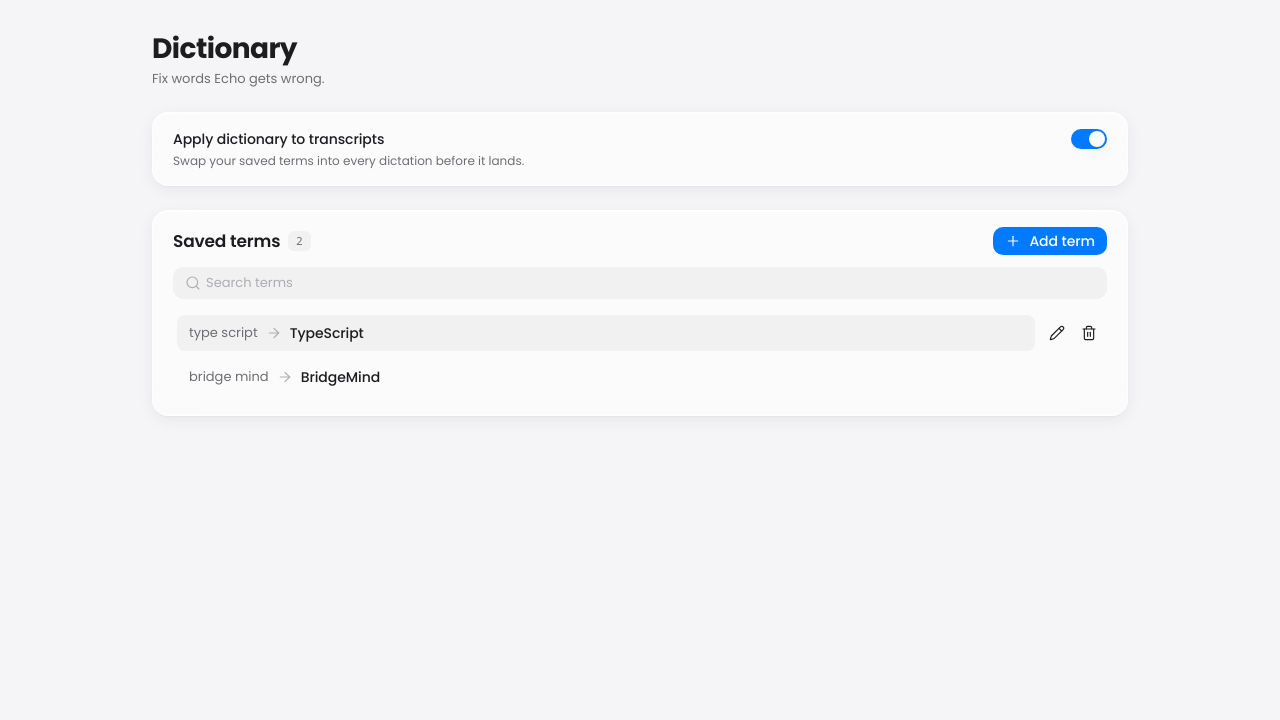
Scenario: DictionaryPage › refuses a word that is already listed and saves nothing
Expected: the text "TypeScript" is shown, x1=290 y1=323 x2=364 y2=343
Click the button "Add term".
click(1050, 241)  # box x1=993 y1=227 x2=1107 y2=255
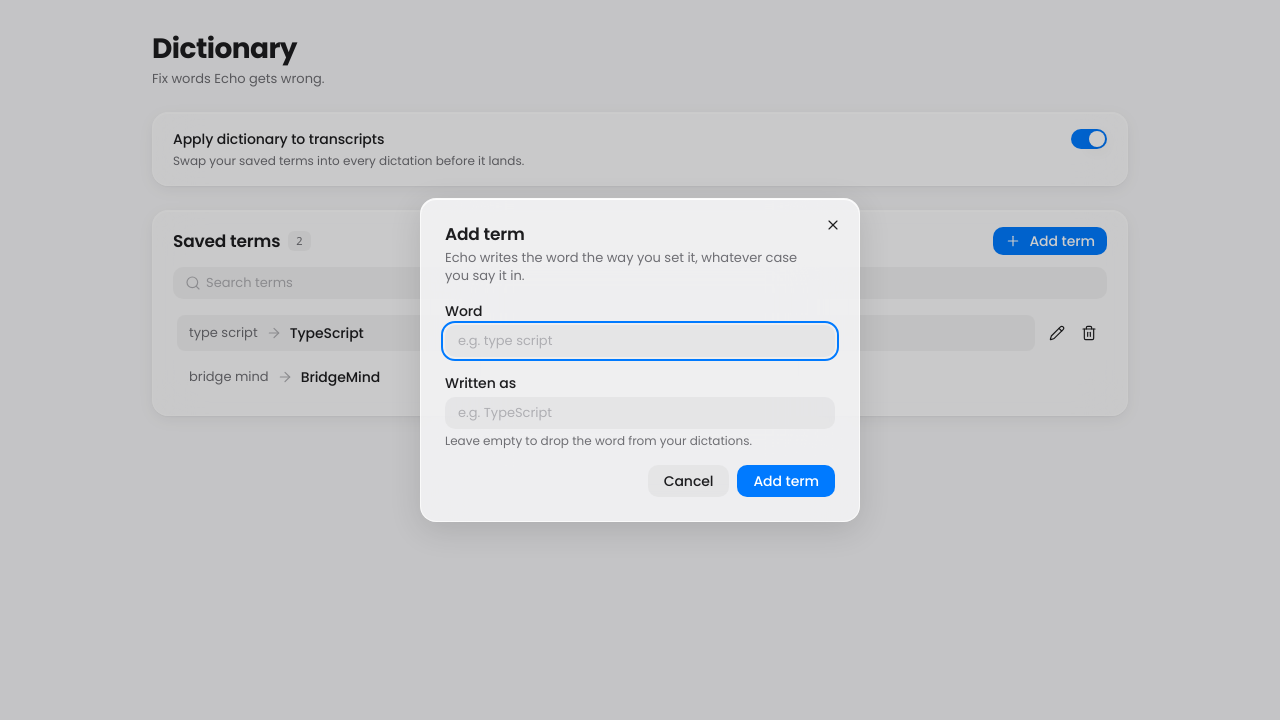
Type "Type Script" into the field labelled "Word".
click(640, 341); type("Type Script")  # box x1=445 y1=325 x2=835 y2=357
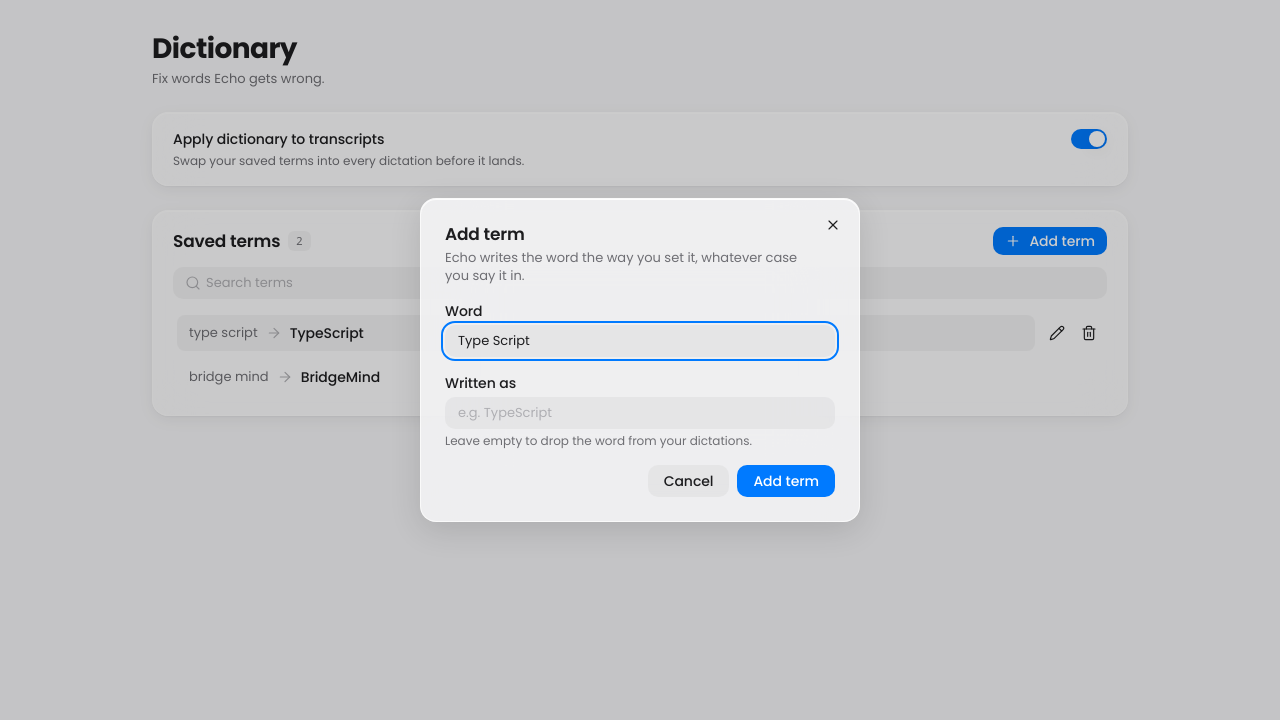
Type "TS" into the field labelled "Written as".
click(640, 413); type("TS")  # box x1=445 y1=397 x2=835 y2=429
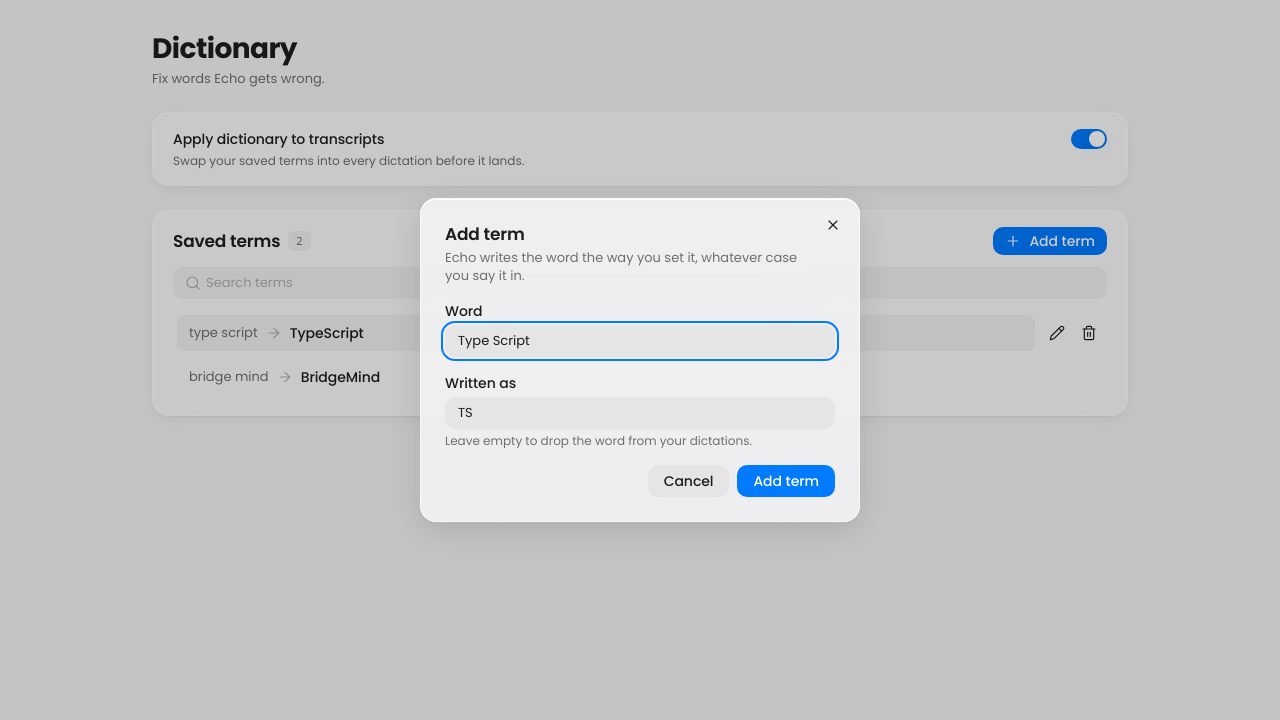
Click the button "Add term".
click(786, 481)  # box x1=737 y1=465 x2=835 y2=497
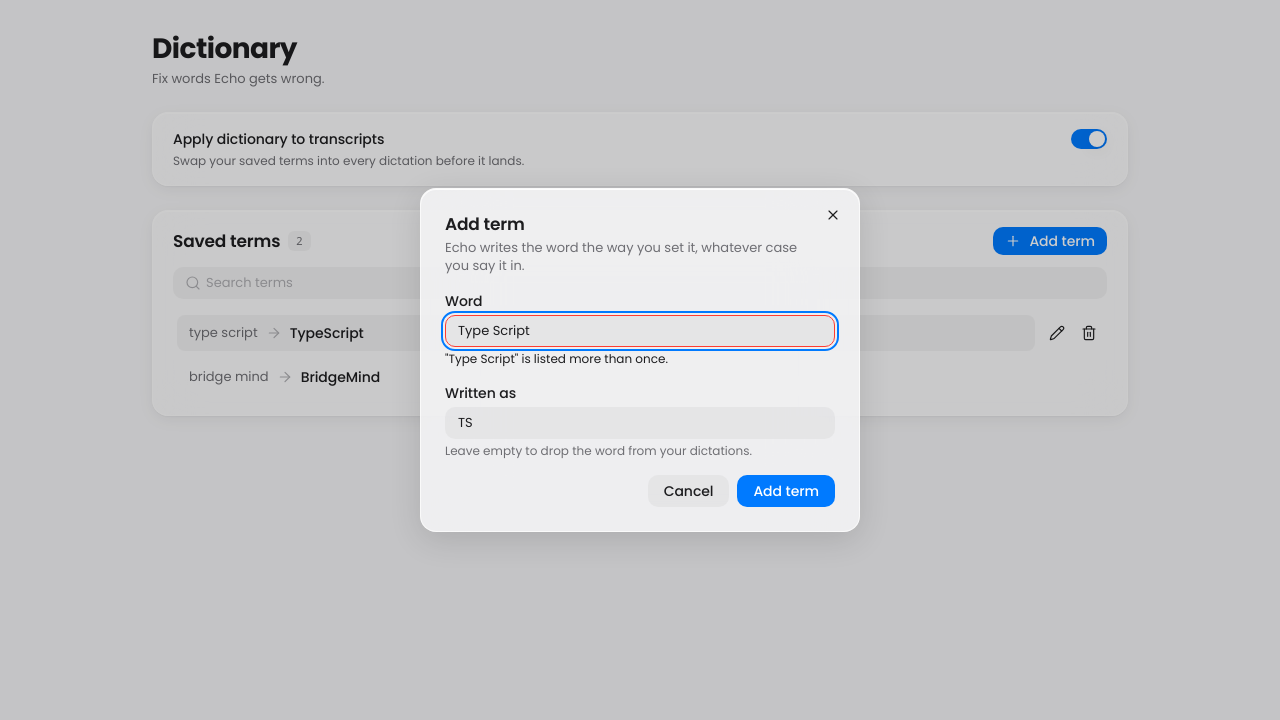
Expected: the text "\"Type Script\" is listed more than once." is shown, x1=445 y1=350 x2=668 y2=367
